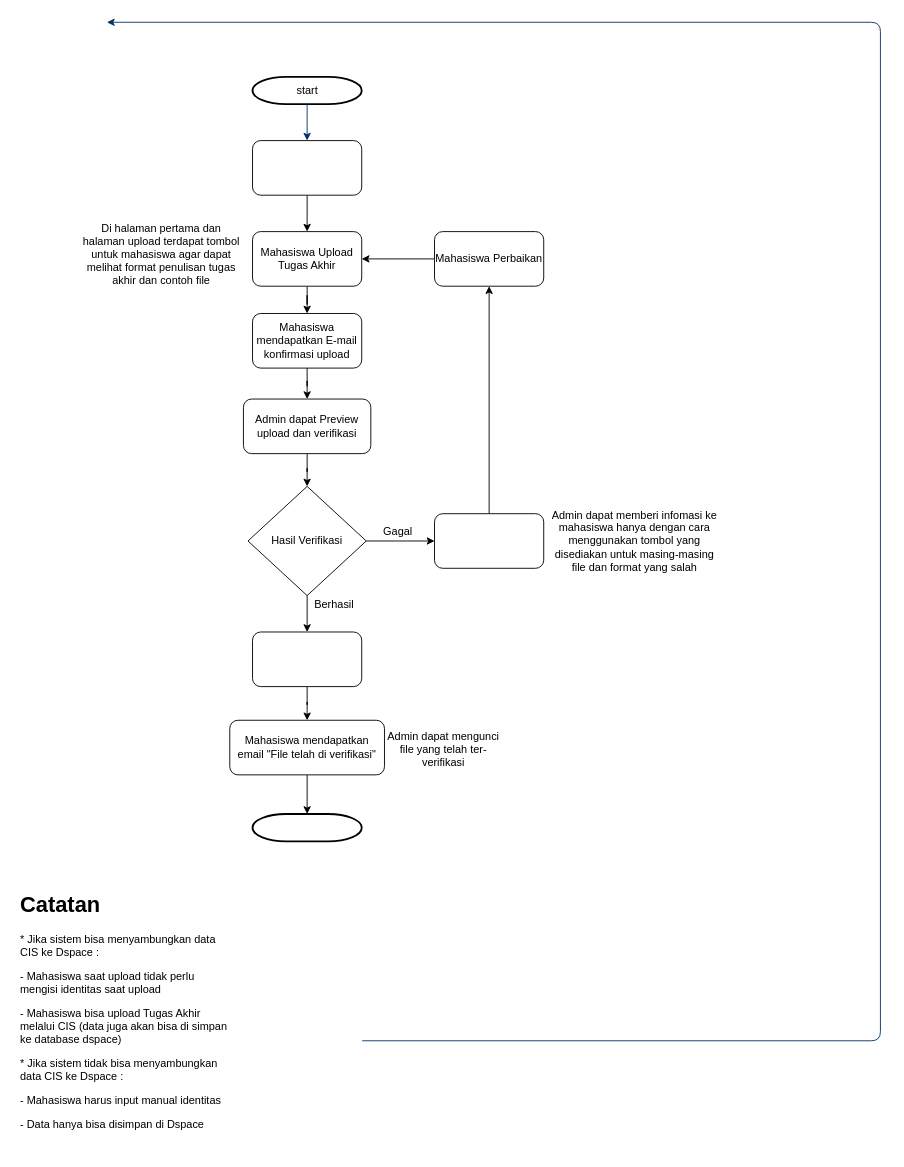
Some shapes in this 904 by 1167 pixel diagram are drawn without their labels. The centre of each missing label's shape, as x and y in pixels:
"Admin bisa menyimpan hasil upload mahasiswa" goes at (x=307, y=659).
"End" goes at (x=306, y=827).
"Info mahasiswa melalui E-mail" goes at (x=489, y=540).
"Mahasiswa Login" goes at (x=307, y=167).
